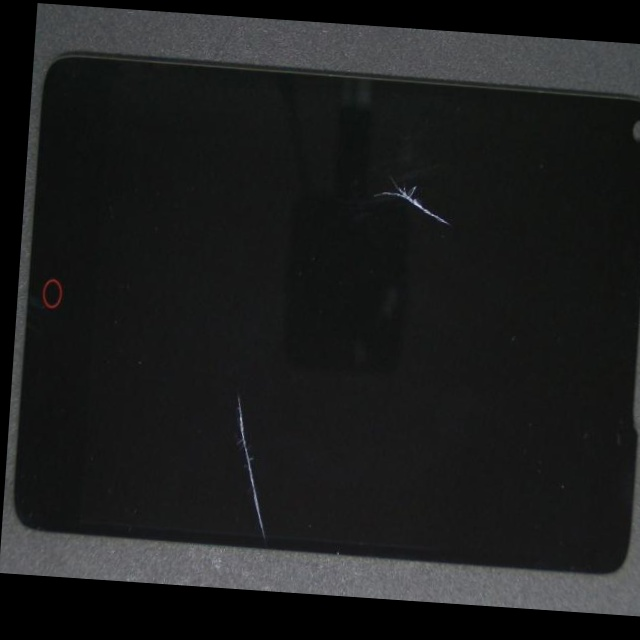scratch: (106, 100, 374, 596), (243, 88, 594, 266)
